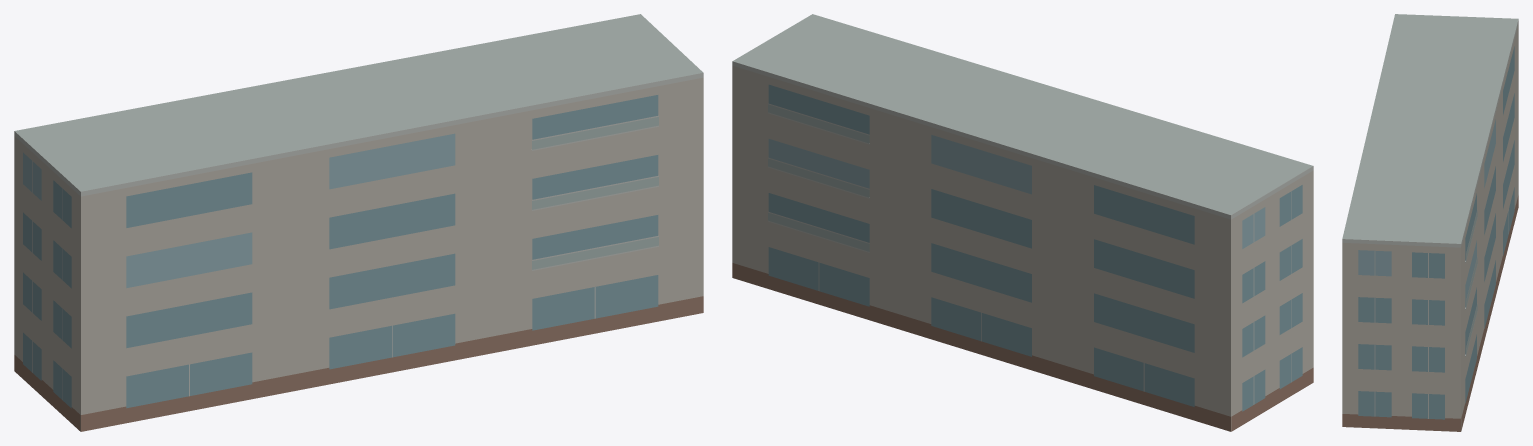
Rendered from survey-upis-32804604.glb.
3 views of the same model, side by side, from view 1: azimuth 30°, elevation 25°; view 2: azimuth 150°, elevation 25°; view 3: azimuth 270°, elevation 25° (orthographic). The views are drawn at different scales.
Parts seen in each view (by area): view 1: survey-upis-32804604.tmp; view 2: survey-upis-32804604.tmp; view 3: survey-upis-32804604.tmp.
Part boxes in pixels (<box>): survey-upis-32804604.tmp: <box>14,14,703,431</box>; survey-upis-32804604.tmp: <box>732,14,1313,431</box>; survey-upis-32804604.tmp: <box>1342,14,1518,431</box>.
Bounding box in the file's own units: 32.03 × 12.2 × 10.39.
